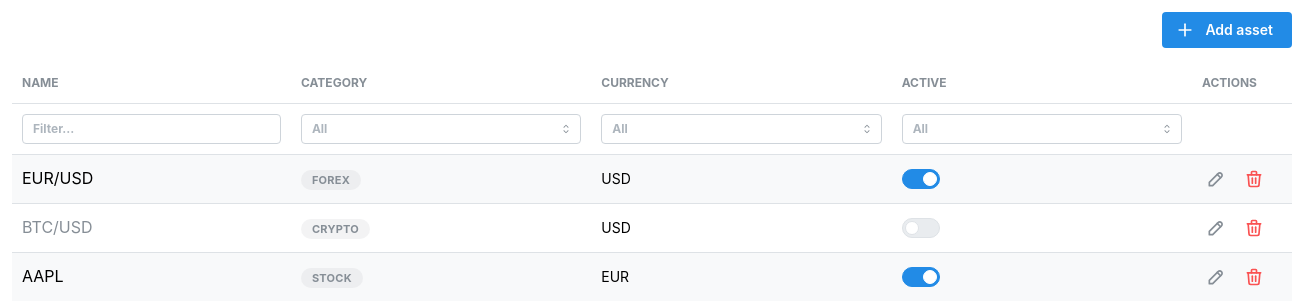
Test: AssetsTab › column filters › filters by name (case-insensitive substring) and hides non-matching rows
Expected: the text "EUR/USD" is shown, [22,168,93,188]
Step 1. Type "btc" into the field named "Name" → (151, 129), box [22,114,281,144]
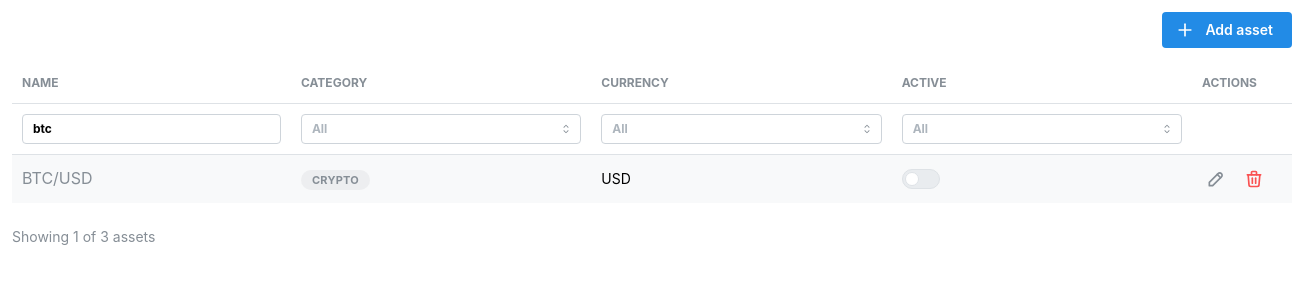
Expected: the text "EUR/USD" is gone
Expected: the text "AAPL" is gone
Expected: the text "Showing 1 of 3 assets" is shown, [12,228,155,245]
